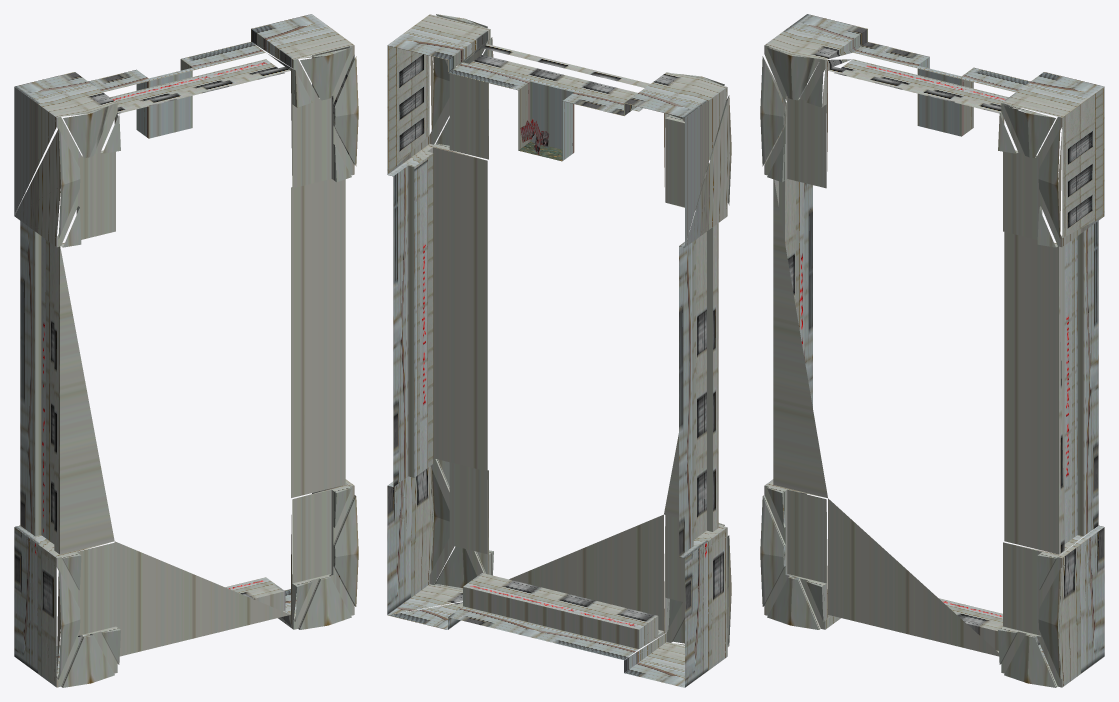
Rendered from policestation_wtf.obj.
The picture shows the model from 3 angles, left to right: view 1: azimuth 30°, elevation 25°; view 2: azimuth 150°, elevation 25°; view 3: azimuth 330°, elevation 25°; orthographic projection.
Parts seen in each view (by area): view 1: group12; view 2: group12; view 3: group12.
Part boxes in pixels (x1=…): group12: x1=14, y1=14, x2=358, y2=687; group12: x1=387, y1=14, x2=731, y2=687; group12: x1=760, y1=14, x2=1104, y2=687.
Bounding box in the file's own units: 361 × 660 × 98.43.
